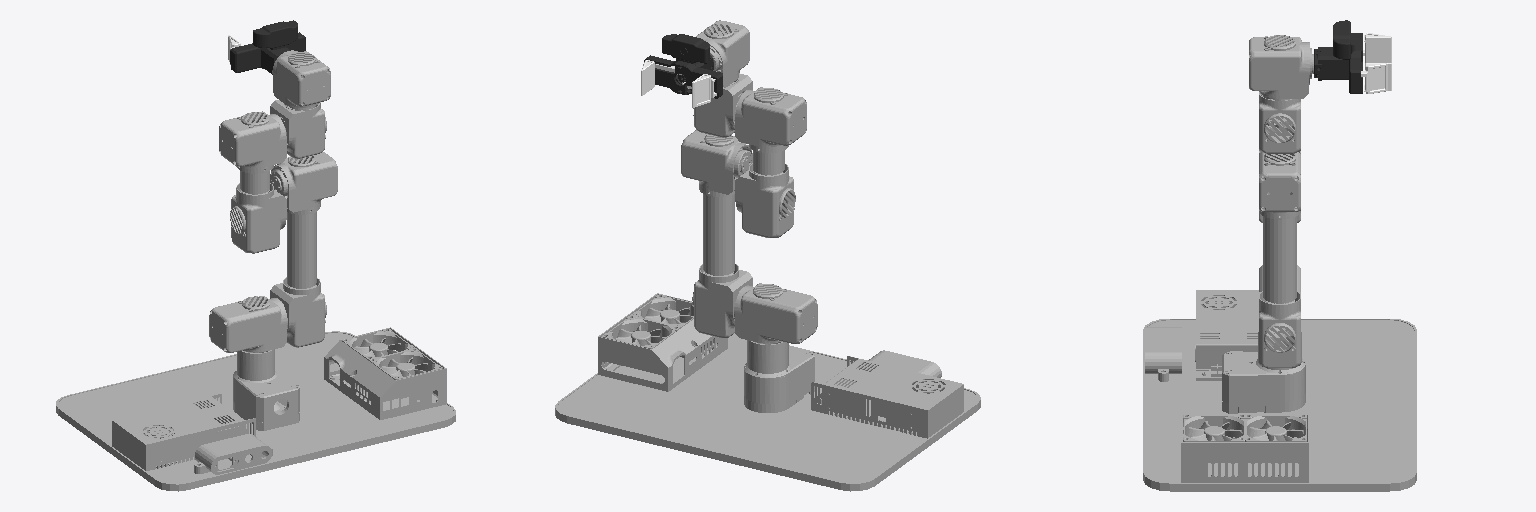
The robot description file, URDF, robot "arm_description":
<?xml version="1.0" encoding="utf-8"?>
<!-- This URDF was automatically created by SolidWorks to URDF Exporter! Originally created by Stephen Brawner (brawner@gmail.com) 
     Commit Version: 1.6.0-4-g7f85cfe  Build Version: 1.6.7995.38578
     For more information, please see http://wiki.ros.org/sw_urdf_exporter -->
<robot
  name="arm_description">
  <link name="world" />
  <joint name="world_to_base" type="fixed">
    <parent link="world" />
    <child link="base_link" />
    <origin xyz="0 0 0" rpy="0 0 0" />
  </joint>
  <link
    name="base_link">
    <inertial>
      <origin
        xyz="0.013005483231454 -0.0122874534188383 -0.0125058754014893"
        rpy="0 0 0" />
      <mass
        value="3.38588071798989" />
      <inertia
        ixx="0.0376150544468535"
        ixy="-4.09485697519538E-06"
        ixz="9.80273251958914E-06"
        iyy="0.0748122374051463"
        iyz="-1.39350741542954E-05"
        izz="0.112151919059154" />
    </inertial>
    <visual>
      <origin
        xyz="0 0 0"
        rpy="0 0 0" />
      <geometry>
        <mesh
          filename="package://arm_description/meshes/base_link.STL" />
      </geometry>
      <material
        name="">
        <color
          rgba="0.752941176470588 0.752941176470588 0.752941176470588 1" />
      </material>
    </visual>
    <collision>
      <origin
        xyz="0 0 0"
        rpy="0 0 0" />
      <geometry>
        <mesh
          filename="package://arm_description/meshes/base_link.STL" />
      </geometry>
    </collision>
  </link>
  <link
    name="link_1">
    <inertial>
      <origin
        xyz="-0.00573535850787753 -1.51814079566992E-05 0.141615303230785"
        rpy="0 0 0" />
      <mass
        value="0.163183381078305" />
      <inertia
        ixx="0.000105069255475282"
        ixy="1.12285872176756E-08"
        ixz="5.78322274706578E-06"
        iyy="0.000149212342571189"
        iyz="3.65520616379667E-08"
        izz="0.000208218009328161" />
    </inertial>
    <visual>
      <origin
        xyz="0 0 0"
        rpy="0 0 0" />
      <geometry>
        <mesh
          filename="package://arm_description/meshes/link_1.STL" />
      </geometry>
      <material
        name="">
        <color
          rgba="0.752941176470588 0.752941176470588 0.752941176470588 1" />
      </material>
    </visual>
    <collision>
      <origin
        xyz="0 0 0"
        rpy="0 0 0" />
      <geometry>
        <mesh
          filename="package://arm_description/meshes/link_1.STL" />
      </geometry>
    </collision>
  </link>
  <joint
    name="joint_1"
    type="revolute">
    <origin
      xyz="0 0 0"
      rpy="0 0 0" />
    <parent
      link="base_link" />
    <child
      link="link_1" />
    <axis
      xyz="0 0 1" />
    <limit
      lower="-0.7854"
      upper="0.8727"
      effort="200"
      velocity="5" />
  </joint>
  <link
    name="link_2">
    <inertial>
      <origin
        xyz="-5.33969957444702E-07 0.00596557002640269 0.0841628003852398"
        rpy="0 0 0" />
      <mass
        value="0.141380673625224" />
      <inertia
        ixx="9.28586990113909E-05"
        ixy="-2.12754939259306E-08"
        ixz="-3.73971253634928E-08"
        iyy="8.92038916003066E-05"
        iyz="3.27319160948993E-06"
        izz="0.000141179262961415" />
    </inertial>
    <visual>
      <origin
        xyz="0 0 0"
        rpy="0 0 0" />
      <geometry>
        <mesh
          filename="package://arm_description/meshes/link_2.STL" />
      </geometry>
      <material
        name="">
        <color
          rgba="0.752941176470588 0.752941176470588 0.752941176470588 1" />
      </material>
    </visual>
    <collision>
      <origin
        xyz="0 0 0"
        rpy="0 0 0" />
      <geometry>
        <mesh
          filename="package://arm_description/meshes/link_2.STL" />
      </geometry>
    </collision>
  </link>
  <joint
    name="joint_2"
    type="revolute">
    <origin
      xyz="0 0 0.1464"
      rpy="1.5707963267949 0 1.5707963267949" />
    <parent
      link="link_1" />
    <child
      link="link_2" />
    <axis
      xyz="0 0 1" />
    <limit
      lower="-1.57"
      upper="1.57"
      effort="200"
      velocity="10" />
  </joint>
  <link
    name="link_3">
    <inertial>
      <origin
        xyz="-0.00391173104561557 -1.49146629101343E-05 -0.170024735109497"
        rpy="0 0 0" />
      <mass
        value="0.177195737003072" />
      <inertia
        ixx="0.000126029605021695"
        ixy="-1.05898728215984E-08"
        ixz="3.2160849199103E-06"
        iyy="0.000125453318235975"
        iyz="-6.41322975720915E-09"
        izz="0.000158421160725922" />
    </inertial>
    <visual>
      <origin
        xyz="0 0 0"
        rpy="0 0 0" />
      <geometry>
        <mesh
          filename="package://arm_description/meshes/link_3.STL" />
      </geometry>
      <material
        name="">
        <color
          rgba="0.752941176470588 0.752941176470588 0.752941176470588 1" />
      </material>
    </visual>
    <collision>
      <origin
        xyz="0 0 0"
        rpy="0 0 0" />
      <geometry>
        <mesh
          filename="package://arm_description/meshes/link_3.STL" />
      </geometry>
    </collision>
  </link>
  <joint
    name="joint_3"
    type="revolute">
    <origin
      xyz="0 0 0.0895"
      rpy="1.5707963267949 -1.5707963267949 0" />
    <parent
      link="link_2" />
    <child
      link="link_3" />
    <axis
      xyz="0 0 -1" />
    <limit
      lower="-0.7854"
      upper="0.7854"
      effort="200"
      velocity="10" />
  </joint>
  <link
    name="link_4">
    <inertial>
      <origin
        xyz="-3.6973238745408E-05 -0.00339659287195743 0.0858843482112302"
        rpy="0 0 0" />
      <mass
        value="0.148325167434625" />
      <inertia
        ixx="9.83824919124809E-05"
        ixy="-8.95348942301989E-09"
        ixz="3.53186062442178E-08"
        iyy="9.24366010340052E-05"
        iyz="-3.58230406317323E-06"
        izz="0.000148216123686448" />
    </inertial>
    <visual>
      <origin
        xyz="0 0 0"
        rpy="0 0 0" />
      <geometry>
        <mesh
          filename="package://arm_description/meshes/link_4.STL" />
      </geometry>
      <material
        name="">
        <color
          rgba="0.752941176470588 0.752941176470588 0.752941176470588 1" />
      </material>
    </visual>
    <collision>
      <origin
        xyz="0 0 0"
        rpy="0 0 0" />
      <geometry>
        <mesh
          filename="package://arm_description/meshes/link_4.STL" />
      </geometry>
    </collision>
  </link>
  <joint
    name="joint_4"
    type="revolute">
    <origin
      xyz="0 0 -0.197985205862429"
      rpy="1.5707963267949 0 -1.5707963267949" />
    <parent
      link="link_3" />
    <child
      link="link_4" />
    <axis
      xyz="0 0 1" />
    <limit
      lower="-2.0944"
      upper="2.35629"
      effort="200"
      velocity="10" />
  </joint>
  <link
    name="link_5">
    <inertial>
      <origin
        xyz="0.00209491150541927 -2.80223931179713E-05 0.131173689025555"
        rpy="0 0 0" />
      <mass
        value="0.168747212516084" />
      <inertia
        ixx="0.000102060051169682"
        ixy="1.06916101409293E-07"
        ixz="3.50583401611206E-06"
        iyy="0.000103785039135673"
        iyz="-1.95087071650904E-08"
        izz="0.000155951302798199" />
    </inertial>
    <visual>
      <origin
        xyz="0 0 0"
        rpy="0 0 0" />
      <geometry>
        <mesh
          filename="package://arm_description/meshes/link_5.STL" />
      </geometry>
      <material
        name="">
        <color
          rgba="0.752941176470588 0.752941176470588 0.752941176470588 1" />
      </material>
    </visual>
    <collision>
      <origin
        xyz="0 0 0"
        rpy="0 0 0" />
      <geometry>
        <mesh
          filename="package://arm_description/meshes/link_5.STL" />
      </geometry>
    </collision>
  </link>
  <joint
    name="joint_5"
    type="revolute">
    <origin
      xyz="0 0 0.0909852058624292"
      rpy="1.5707963267949 1.5707963267949 0" />
    <parent
      link="link_4" />
    <child
      link="link_5" />
    <axis
      xyz="0 0 1" />
    <limit
      lower="-1.57"
      upper="1.57"
      effort="200"
      velocity="10" />
  </joint>
  <link
    name="link_6">
    <inertial>
      <origin
        xyz="3.15012006844584E-05 0.00831132272524687 0.0856917113309387"
        rpy="0 0 0" />
      <mass
        value="0.141722203528696" />
      <inertia
        ixx="7.1742465548354E-05"
        ixy="-1.13046084406354E-08"
        ixz="-6.6392923294744E-08"
        iyy="8.60204006471444E-05"
        iyz="1.95961311412055E-06"
        izz="0.000115170816884052" />
    </inertial>
    <visual>
      <origin
        xyz="0 0 0"
        rpy="0 0 0" />
      <geometry>
        <mesh
          filename="package://arm_description/meshes/link_6.STL" />
      </geometry>
      <material
        name="">
        <color
          rgba="0.752941176470588 0.752941176470588 0.752941176470588 1" />
      </material>
    </visual>
    <collision>
      <origin
        xyz="0 0 0"
        rpy="0 0 0" />
      <geometry>
        <mesh
          filename="package://arm_description/meshes/link_6.STL" />
      </geometry>
    </collision>
  </link>
  <joint
    name="joint_6"
    type="revolute">
    <origin
      xyz="0 0 0.14698520586243"
      rpy="1.5707963267949 0 1.5707963267949" />
    <parent
      link="link_5" />
    <child
      link="link_6" />
    <axis
      xyz="0 0 1" />
    <limit
      lower="-1.57"
      upper="2.0944"
      effort="200"
      velocity="10" />
  </joint>
  <link
    name="link_7">
    <inertial>
      <origin
        xyz="3.18264428398052E-05 -0.00373171577154271 -0.0872550227993109"
        rpy="0 0 0" />
      <mass
        value="0.201974313822122" />
      <inertia
        ixx="8.59102078031778E-05"
        ixy="1.70961445694962E-08"
        ixz="5.36653651788923E-08"
        iyy="0.000106371959723255"
        iyz="1.63435008247391E-06"
        izz="0.000131663432678325" />
    </inertial>
    <visual>
      <origin
        xyz="0 0 0"
        rpy="0 0 0" />
      <geometry>
        <mesh
          filename="package://arm_description/meshes/link_7.STL" />
      </geometry>
      <material
        name="">
        <color
          rgba="0.752941176470588 0.752941176470588 0.752941176470588 1" />
      </material>
    </visual>
    <collision>
      <origin
        xyz="0 0 0"
        rpy="0 0 0" />
      <geometry>
        <mesh
          filename="package://arm_description/meshes/link_7.STL" />
      </geometry>
    </collision>
  </link>
  <joint
    name="joint_7"
    type="revolute">
    <origin
      xyz="0 0 0.0909852058624295"
      rpy="1.5707963267949 -1.5707963267949 0" />
    <parent
      link="link_6" />
    <child
      link="link_7" />
    <axis
      xyz="0 0 -1" />
    <limit
      lower="-2.3529"
      upper="2.3529"
      effort="200"
      velocity="10" />
  </joint>
  <link
    name="tool_link">
    <inertial>
      <origin
        xyz="-3.2679917184586E-06 5.5190473645772E-05 0.0296763969651909"
        rpy="0 0 0" />
      <mass
        value="0.153175305780123" />
      <inertia
        ixx="3.38930542417263E-05"
        ixy="2.32907553904742E-06"
        ixz="8.65513064413418E-10"
        iyy="0.000140210723832273"
        iyz="5.02862536304819E-09"
        izz="0.000153440550292132" />
    </inertial>
    <visual>
      <origin
        xyz="0 0 0"
        rpy="0 0 0" />
      <geometry>
        <mesh
          filename="package://arm_description/meshes/tool_link.STL" />
      </geometry>
      <material
        name="">
        <color
          rgba="0.250980392156863 0.250980392156863 0.250980392156863 1" />
      </material>
    </visual>
    <collision>
      <origin
        xyz="0 0 0"
        rpy="0 0 0" />
      <geometry>
        <mesh
          filename="package://arm_description/meshes/tool_link.STL" />
      </geometry>
    </collision>
  </link>
  <joint
    name="tool_joint"
    type="revolute">
    <origin
      xyz="0 -0.124485205862441 -0.0909852058624322"
      rpy="-1.5707963267949 0 0" />
    <parent
      link="link_7" />
    <child
      link="tool_link" />
    <axis
      xyz="0 0 -1" />
    <limit
      lower="-3.49"
      upper="3.49"
      effort="200"
      velocity="5" />
  </joint>
  <link
    name="grip_left_link">
    <inertial>
      <origin
        xyz="-0.0472057386689508 -0.00225339802100577 0.0018966503911423"
        rpy="0 0 0" />
      <mass
        value="0.0199960953484895" />
      <inertia
        ixx="6.85202610096931E-06"
        ixy="6.28134392390056E-07"
        ixz="-1.03874099356176E-06"
        iyy="6.67336841270338E-06"
        iyz="8.79996273613867E-07"
        izz="5.95029100616287E-06" />
    </inertial>
    <visual>
      <origin
        xyz="0 0 0"
        rpy="0 0 0" />
      <geometry>
        <mesh
          filename="package://arm_description/meshes/grip_left_link.STL" />
      </geometry>
      <material
        name="">
        <color
          rgba="1 1 1 1" />
      </material>
    </visual>
    <collision>
      <origin
        xyz="0 0 0"
        rpy="0 0 0" />
      <geometry>
        <mesh
          filename="package://arm_description/meshes/grip_left_link.STL" />
      </geometry>
    </collision>
  </link>
  <joint
    name="grip_left_joint"
    type="prismatic">
    <origin
      xyz="0 0 -0.0135"
      rpy="0 0 0" />
    <parent
      link="tool_link" />
    <child
      link="grip_left_link" />
    <axis
      xyz="-1 0 0" />
    <limit
      lower="-0.04"
      upper="0"
      effort="1"
      velocity="5" />
  </joint>
  <link
    name="grip_right_link">
    <inertial>
      <origin
        xyz="0.0472057386690341 0.00225339802100577 0.00189665039114228"
        rpy="0 0 0" />
      <mass
        value="0.0199960953484896" />
      <inertia
        ixx="6.85202610096931E-06"
        ixy="6.28134392390057E-07"
        ixz="1.03874099356176E-06"
        iyy="6.67336841270337E-06"
        iyz="-8.79996273613869E-07"
        izz="5.95029100616287E-06" />
    </inertial>
    <visual>
      <origin
        xyz="0 0 0"
        rpy="0 0 0" />
      <geometry>
        <mesh
          filename="package://arm_description/meshes/grip_right_link.STL" />
      </geometry>
      <material
        name="">
        <color
          rgba="1 1 1 1" />
      </material>
    </visual>
    <collision>
      <origin
        xyz="0 0 0"
        rpy="0 0 0" />
      <geometry>
        <mesh
          filename="package://arm_description/meshes/grip_right_link.STL" />
      </geometry>
    </collision>
  </link>
  <joint
    name="grip_right_joint"
    type="prismatic">
    <origin
      xyz="0 0 -0.0135"
      rpy="0 0 0" />
    <parent
      link="tool_link" />
    <child
      link="grip_right_link" />
    <axis
      xyz="-1 0 0" />
    <limit
      lower="0"
      upper="0.04"
      effort="1"
      velocity="5" />
  </joint>
  <link
    name="cam_link">
    <inertial>
      <origin
        xyz="0.00500000001588322 0.0402001871503386 0.045389460364602"
        rpy="0 0 0" />
      <mass
        value="0.065967932601823" />
      <inertia
        ixx="9.59737991069117E-06"
        ixy="-1.16335448710478E-13"
        ixz="-4.49230096918465E-16"
        iyy="3.38968989688439E-05"
        iyz="3.22132929115345E-08"
        izz="3.60134968230218E-05" />
    </inertial>
    <visual>
      <origin
        xyz="0 0 0"
        rpy="0 0 0" />
      <geometry>
        <mesh
          filename="package://arm_description/meshes/cam_link.STL" />
      </geometry>
      <material
        name="">
        <color
          rgba="0.250980392156863 0.250980392156863 0.250980392156863 1" />
      </material>
    </visual>
    <collision>
      <origin
        xyz="0 0 0"
        rpy="0 0 0" />
      <geometry>
        <mesh
          filename="package://arm_description/meshes/cam_link.STL" />
      </geometry>
    </collision>
  </link>
  <joint
    name="cam_joint"
    type="fixed">
    <origin
      xyz="0 0 -0.0135"
      rpy="0 0 0" />
    <parent
      link="tool_link" />
    <child
      link="cam_link" />
    <axis
      xyz="0 0 0" />
  </joint>
</robot>

--- What the picture shows (computed from the rendered views, not written in the file) ---
3 views of the same robot in one strip: view 1: azimuth 30°, elevation 25°; view 2: azimuth 150°, elevation 25°; view 3: azimuth 270°, elevation 25° (orthographic).
Model arm_description with 13 links and 12 joints (8 revolute, 2 prismatic, 2 fixed), rooted at world, posed all joints at 0.
Links seen in each view (by area): view 1: base_link, link_3, link_5, link_1, link_4, link_7, link_2, link_6, tool_link, cam_link; view 2: base_link, link_3, link_5, link_1, link_4, link_2, link_7, link_6, tool_link, cam_link, grip_left_link; view 3: base_link, link_3, link_7, link_2, link_6, tool_link, grip_right_link, grip_left_link, cam_link.
Link boxes in pixels (x1,y1,x2,y2): base_link: (56,327,455,491); link_3: (270,152,337,288); link_5: (219,111,286,193); link_1: (209,296,287,352); link_4: (230,183,286,253); link_7: (272,50,330,107); link_2: (270,277,326,347); link_6: (270,100,326,158); tool_link: (230,32,305,74); cam_link: (253,20,297,49); base_link: (555,293,980,491); link_3: (681,130,752,275); link_5: (735,87,806,174); link_1: (734,283,817,343); link_4: (735,163,795,237); link_2: (692,264,752,337); link_7: (696,20,749,87); link_6: (693,73,752,137); tool_link: (644,55,722,98); cam_link: (662,34,709,63); grip_left_link: (682,74,716,108); base_link: (1143,290,1416,491); link_3: (1259,152,1300,303); link_7: (1249,35,1313,98); link_2: (1259,291,1300,367); link_6: (1259,92,1300,153); tool_link: (1314,33,1362,93); grip_right_link: (1361,63,1391,93); grip_left_link: (1363,33,1391,62); cam_link: (1333,20,1350,59).
Size in the robot's own frame: 0.583 by 0.408 by 0.6679 metres.
Meshes: 12 distinct files referenced, 12 mesh visuals loaded (12 binary STL).
